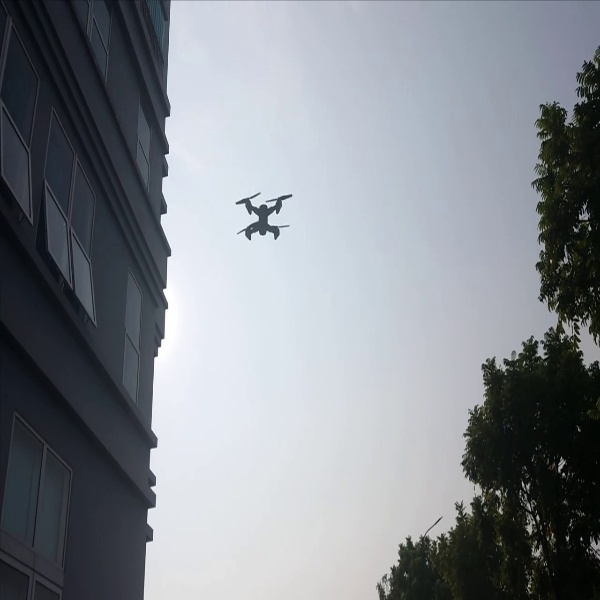drone: (235, 183, 301, 257)
